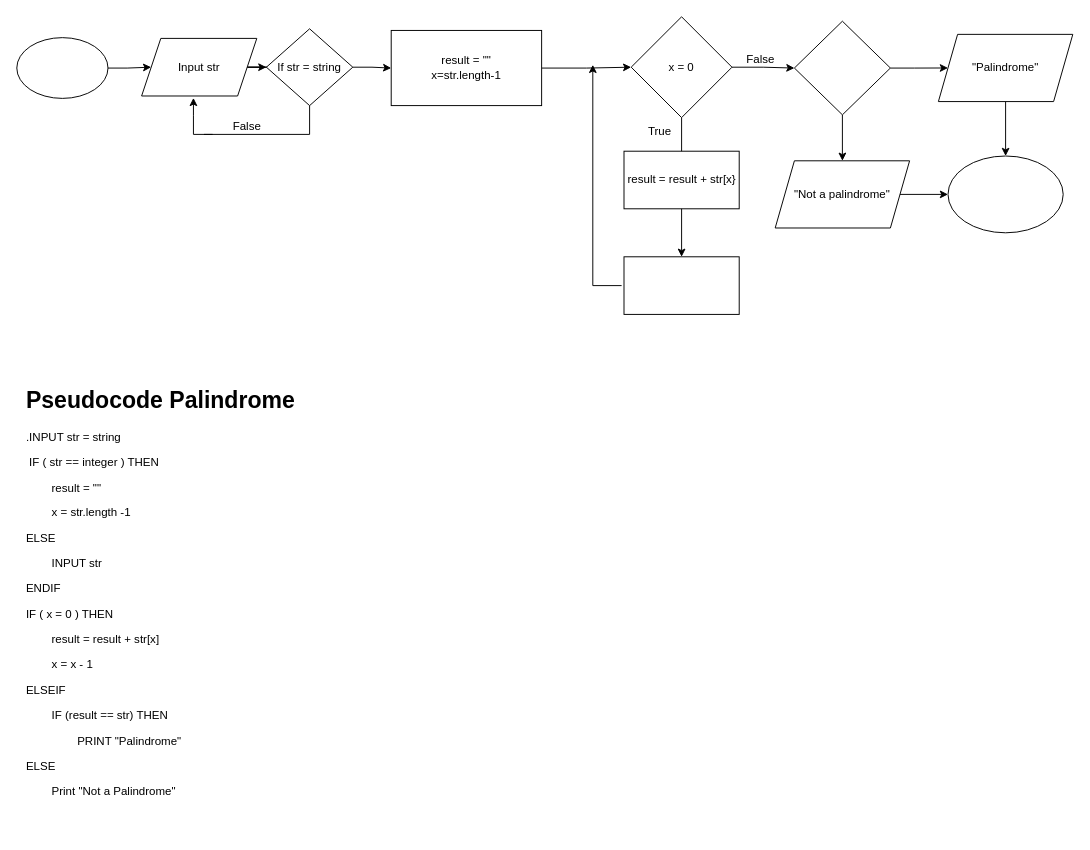
This 1090x850 diagram has some shape labels left out. Each missing label, with the centre of its shape:
"End" goes at point 1005,194.
"result == str" goes at point 841,67.
"Start" goes at point 62,67.
"x = x - 1" goes at point 681,285.
